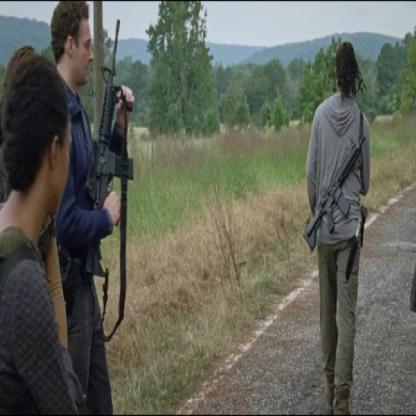Gun: (77, 15, 136, 272), (300, 132, 368, 252)
